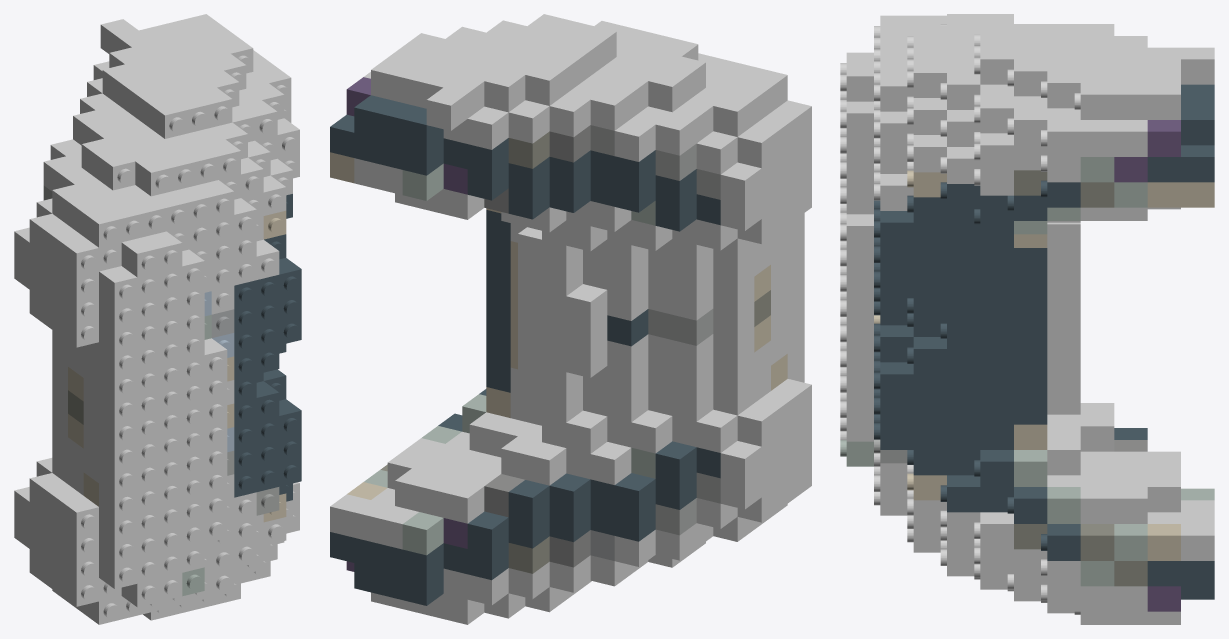
The model's file is full.glb.
3 views of the same model, side by side, from view 1: azimuth 30°, elevation 25°; view 2: azimuth 150°, elevation 25°; view 3: azimuth 270°, elevation 25° (orthographic). The views are drawn at different scales.
Visible parts, largest first — view 1: world; view 2: world; view 3: world.
Part boxes in pixels (x1,y1,x2,y2): world: [14, 14, 301, 624]; world: [330, 14, 811, 624]; world: [840, 14, 1214, 624].
Size of the model in its own units: 104 by 168 by 107.
